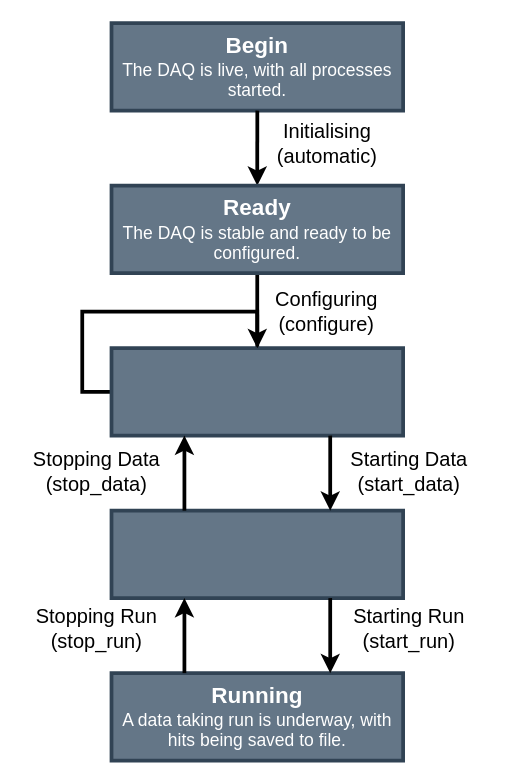
Some shapes in this 505 by 784 pixel diagram are drawn without their labels. The centre of each missing label's shape, as x and y in pixels:
Configured The detector and DAQ processes are configured.: the point at 256,391
Started The flow of hit and monitoring data has begun.: the point at 256,553
